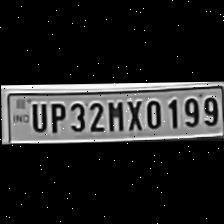0: (140, 95, 162, 128)
1: (162, 94, 180, 128)
2: (84, 97, 104, 130)
3: (65, 97, 85, 130)
9: (180, 93, 198, 126), (200, 94, 218, 125)
M: (104, 97, 124, 131)
P: (46, 98, 64, 132)
U: (27, 100, 46, 132)
X: (122, 96, 142, 129)
